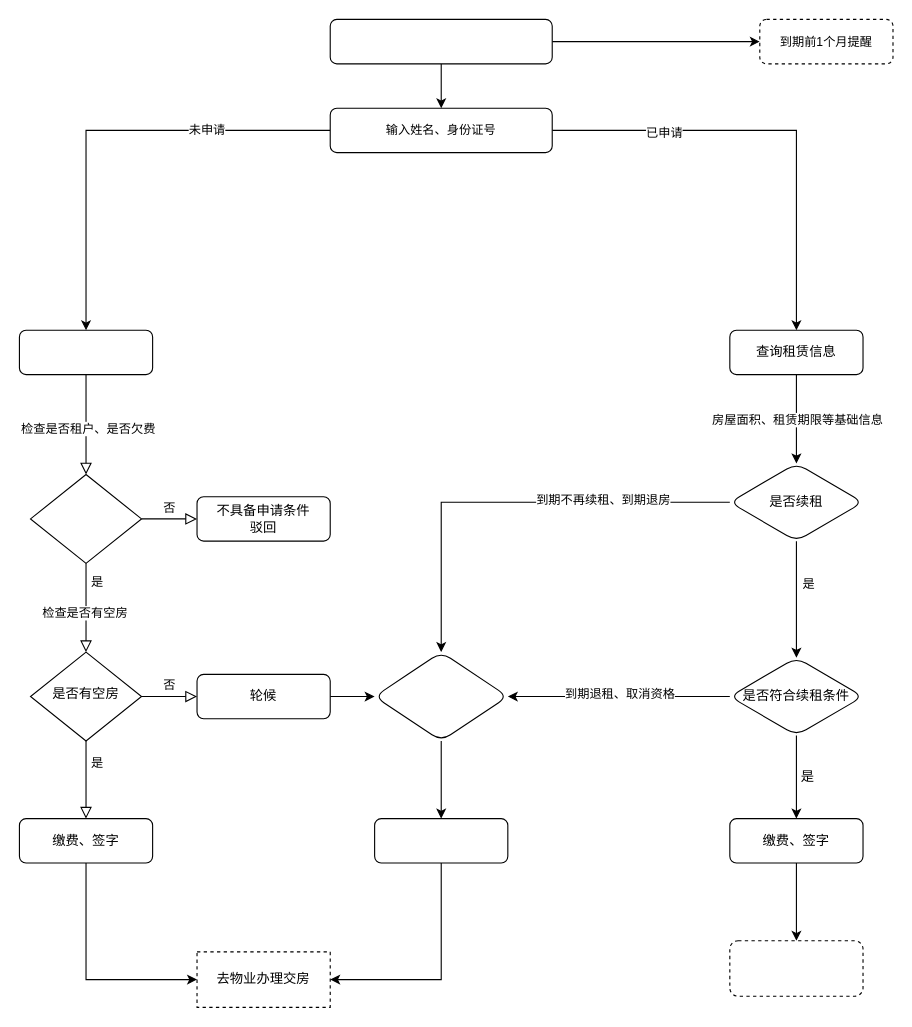
Some shapes in this 912 by 1027 pixel diagram are drawn without their labels. The box of each missing label's shape, as (x1, y1, x2, y2) in pixels:
公众号页面: (329, 18, 552, 64)
是否符合: (29, 473, 142, 563)
有空房: (374, 651, 508, 741)
申请: (18, 329, 153, 375)
继续使用: (729, 940, 863, 996)
通知、缴费、签字: (374, 818, 508, 863)
